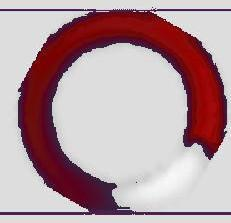ProgressBar: (1, 1, 230, 222)
